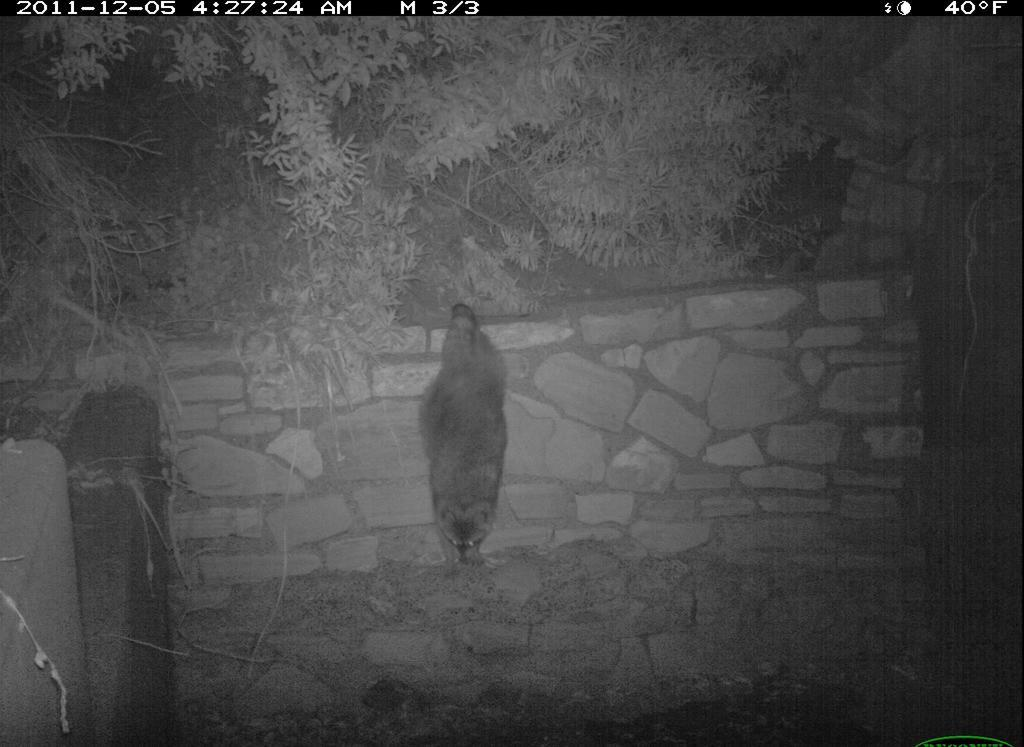raccoon: (428, 297, 536, 574)
